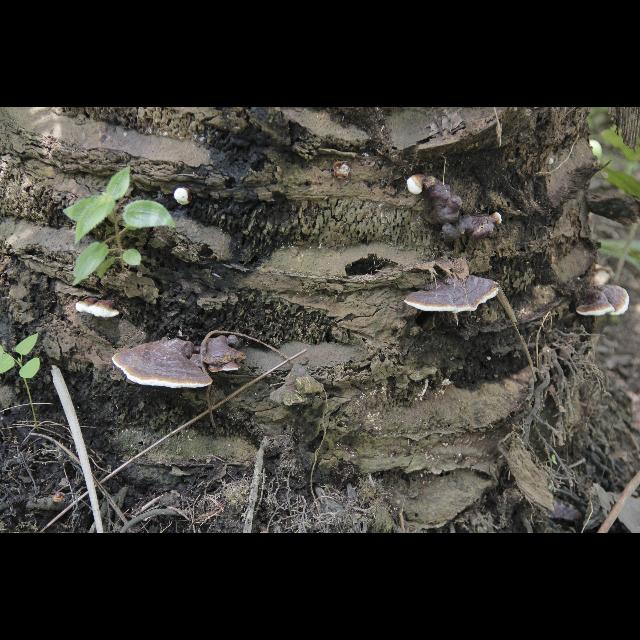ganoderma: (113, 338, 214, 389), (425, 178, 495, 247), (405, 275, 501, 316), (199, 335, 247, 374), (577, 286, 631, 318), (77, 299, 121, 320)
primordium: (408, 175, 425, 196), (175, 188, 194, 206), (491, 213, 503, 226), (550, 159, 555, 166)
